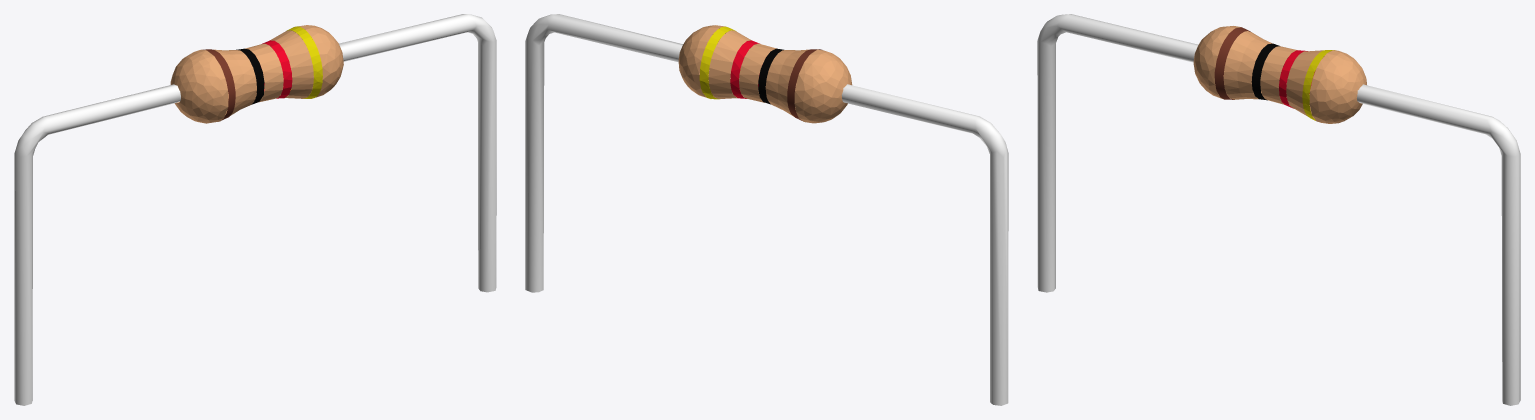
Rendered from resistor1k.fbx.
3 views of the same model, side by side, from view 1: azimuth 30°, elevation 25°; view 2: azimuth 150°, elevation 25°; view 3: azimuth 330°, elevation 25° (orthographic).
Visible parts, largest first — view 1: 1Kohm; view 2: 1Kohm; view 3: 1Kohm.
Boxes of the visible parts, x1,y1,x2,y2 form: 1Kohm: (14, 14, 496, 405); 1Kohm: (525, 14, 1008, 405); 1Kohm: (1037, 14, 1520, 405).
Bounding box in the file's own units: 1.79 × 1.08 × 0.2409.
